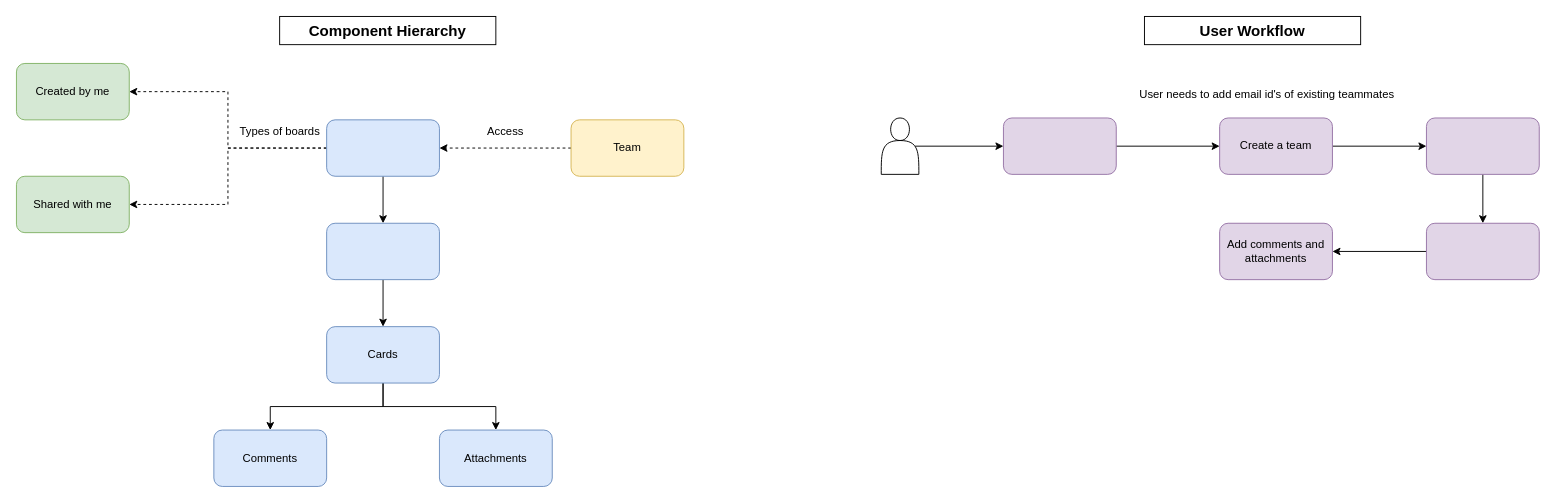
Image size: 1556x503. Some labels were removed from this diagram. The shapes that lost their labels are listed below. From the top down, each one's centre as x and y in pixels, then its label:
(382,147): Kanban Board
(1059,145): Create kanban board
(1482,145): Create columns/states
(382,251): Columns
(1482,251): Create cards
